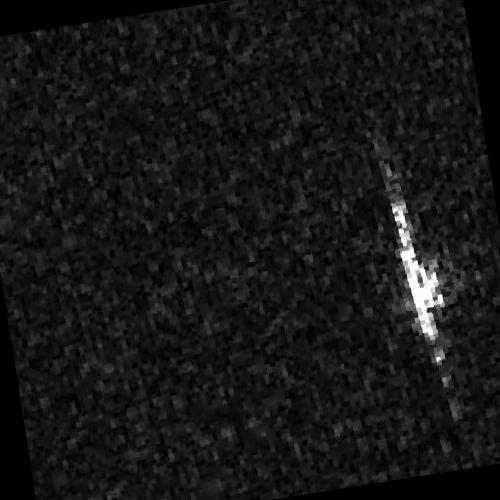ship: (384, 179, 452, 388)
